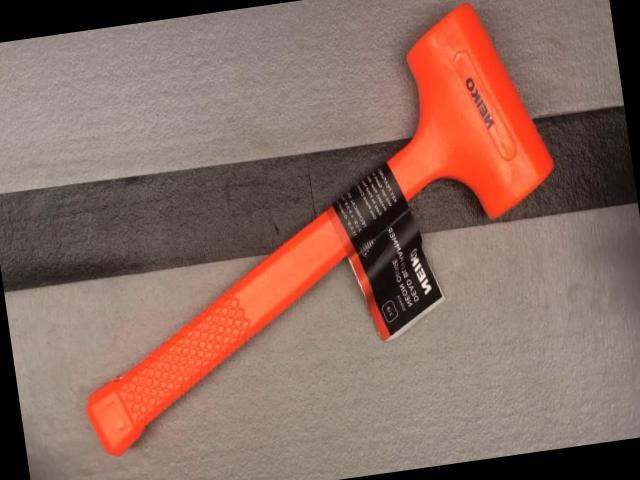hammer: (39, 0, 585, 459)
